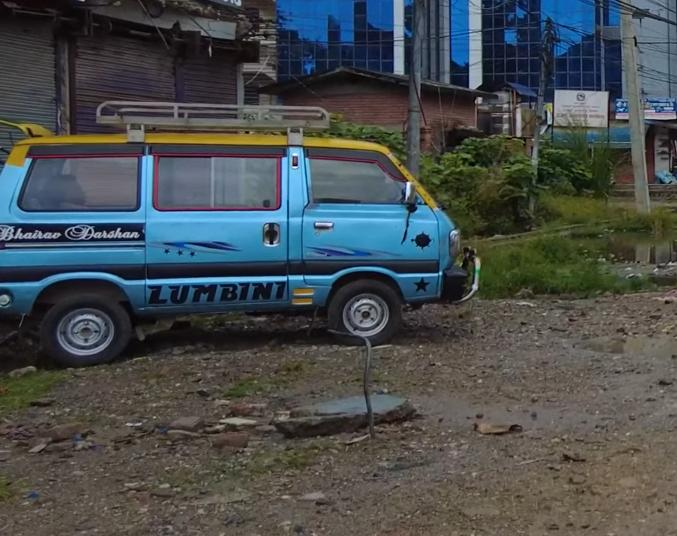van: (0, 96, 486, 368)
